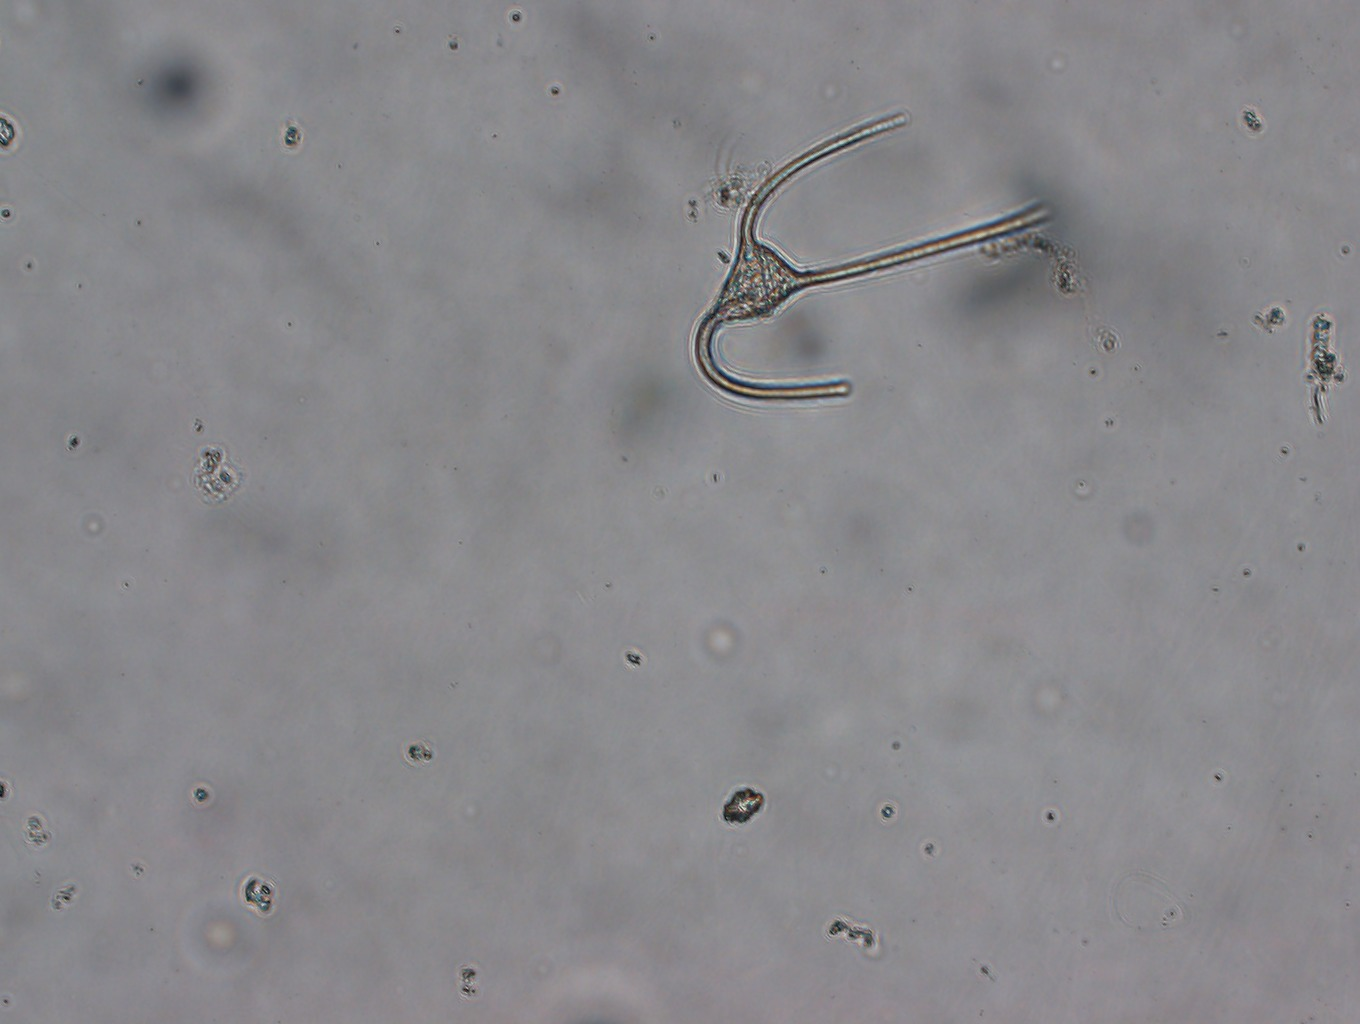ceratium trichoceros: (691, 112, 1053, 402)
